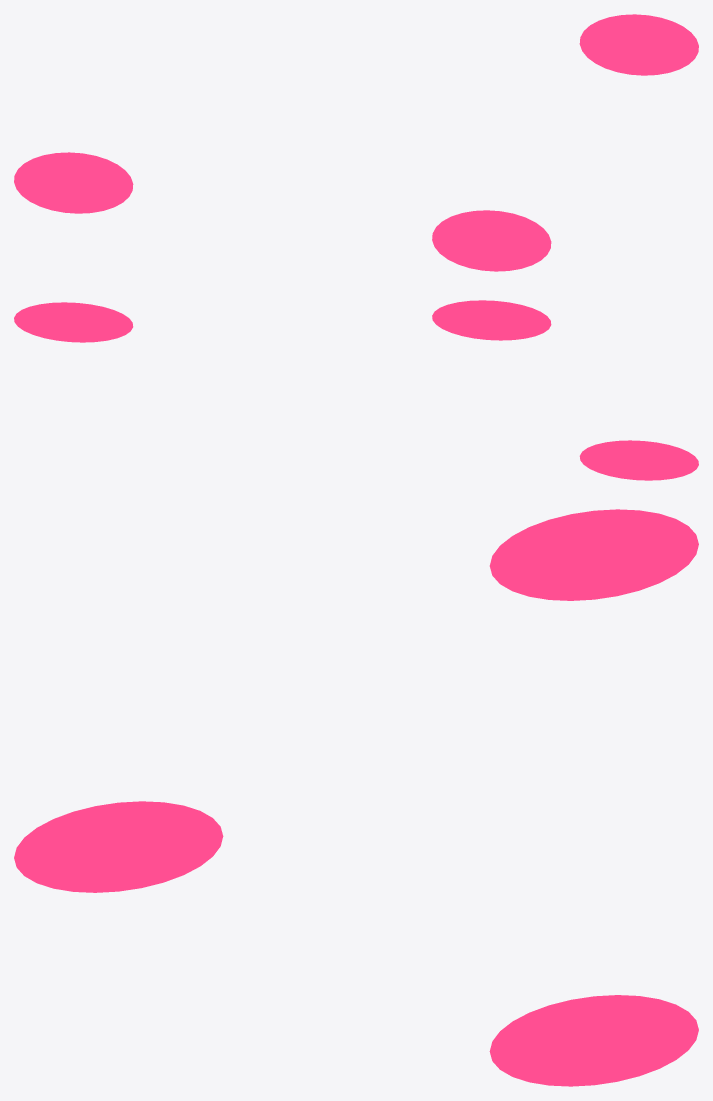
The model's file is pp_light_multiball.glb.
3 renders of one model, top to bottom at view 1: azimuth 30°, elevation 25°; view 2: azimuth 150°, elevation 25°; view 3: azimuth 270°, elevation 25°, orthographic. The views are drawn at different scales.
Parts seen in each view (by area): view 1: MultiLight (×3); view 2: MultiLight (×3); view 3: MultiLight (×3).
Part boxes in pixels (x1,y1,x2,y2): MultiLight (×3): [14, 14, 698, 271]; MultiLight (×3): [14, 300, 698, 480]; MultiLight (×3): [14, 509, 698, 1086].
Size of the model in its own units: 0.142 by 0.00815 by 0.0715.
